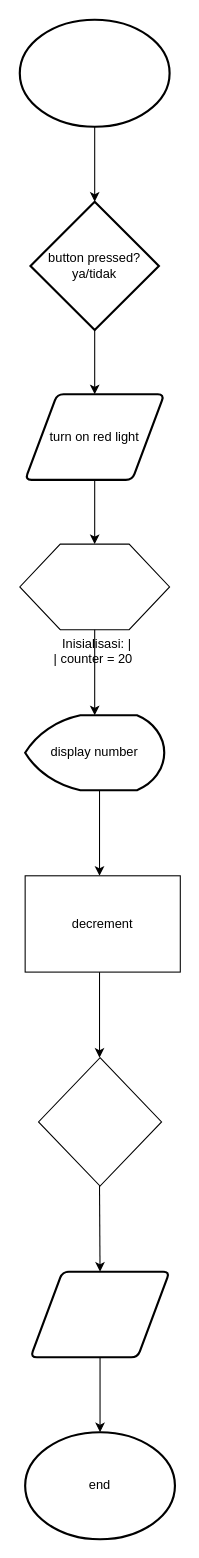
This 199x1558 diagram has some shape labels left out. The centre of each missing label's shape, as x and y in pixels:
"check condition ya/tidak" goes at (99,1121).
"start" goes at (94,72).
"turn off red light" goes at (99,1314).
